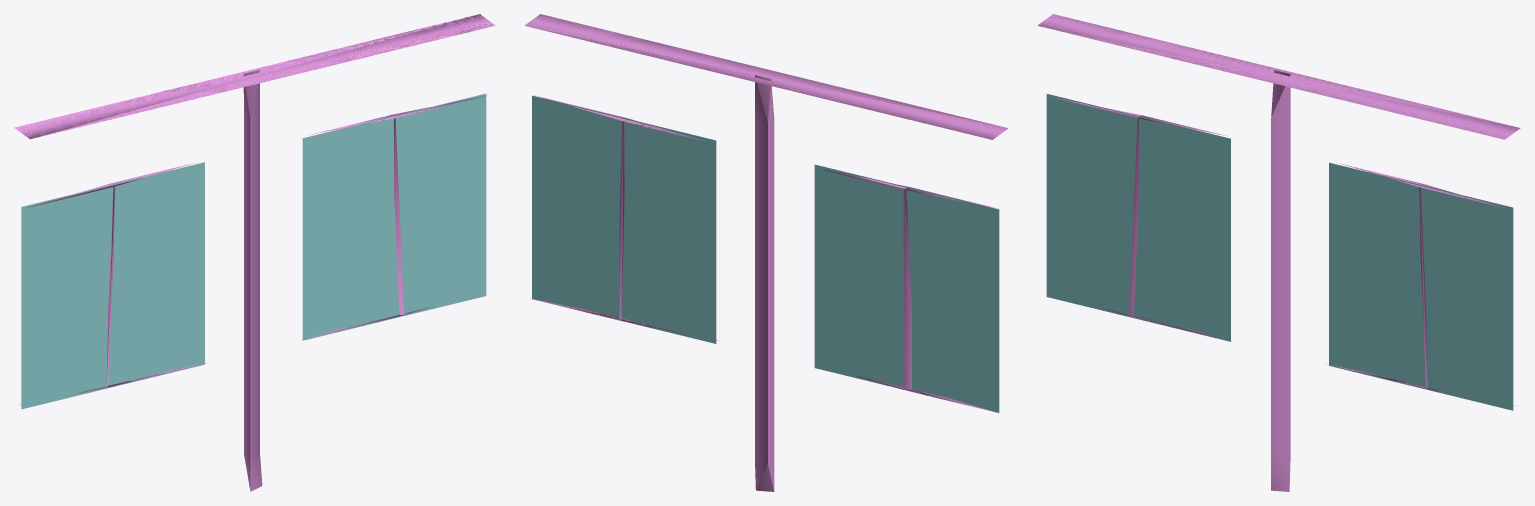
File: sub_Handrail_LOD1.fbx
3 views of the same model, side by side, from view 1: azimuth 30°, elevation 25°; view 2: azimuth 150°, elevation 25°; view 3: azimuth 330°, elevation 25° (orthographic).
Parts seen in each view (by area): view 1: sub_Handrail_LOD1; view 2: sub_Handrail_LOD1; view 3: sub_Handrail_LOD1.
Part boxes in pixels (box(x1,y1,x2,y2)): sub_Handrail_LOD1: box(14, 14, 495, 491); sub_Handrail_LOD1: box(524, 14, 1008, 491); sub_Handrail_LOD1: box(1037, 14, 1520, 491).
Bounding box in the file's own units: 2.02 × 1.71 × 0.1193.
